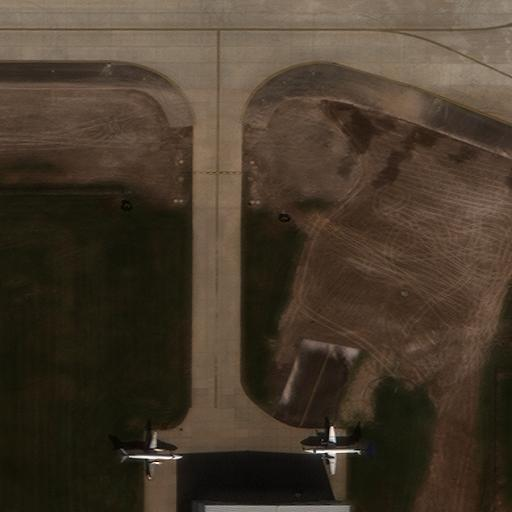Medium Civil Transport: (305, 426, 362, 473), (122, 432, 181, 477)
